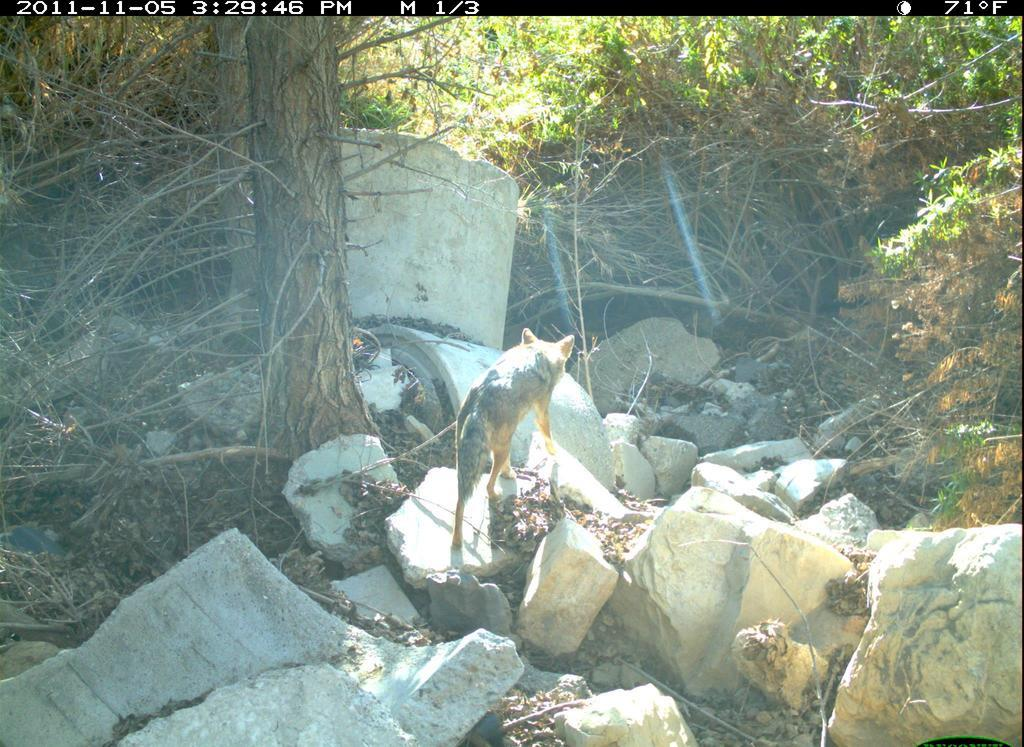coyote: (392, 332, 580, 560)
